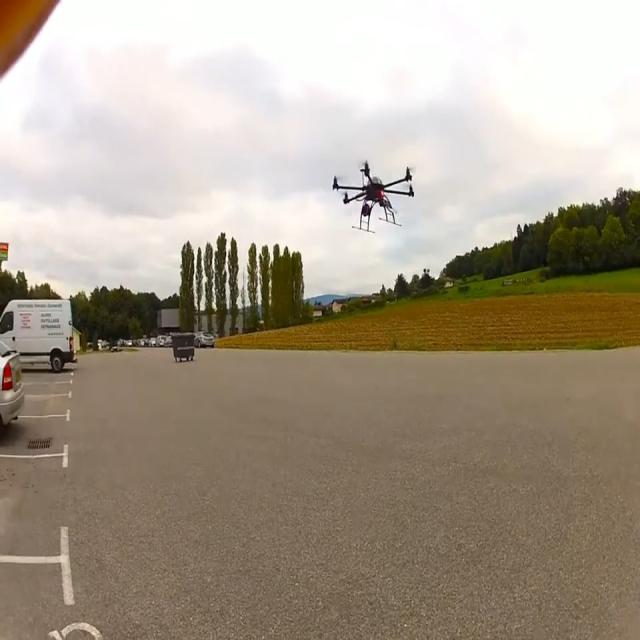drone: (332, 159, 414, 232)
